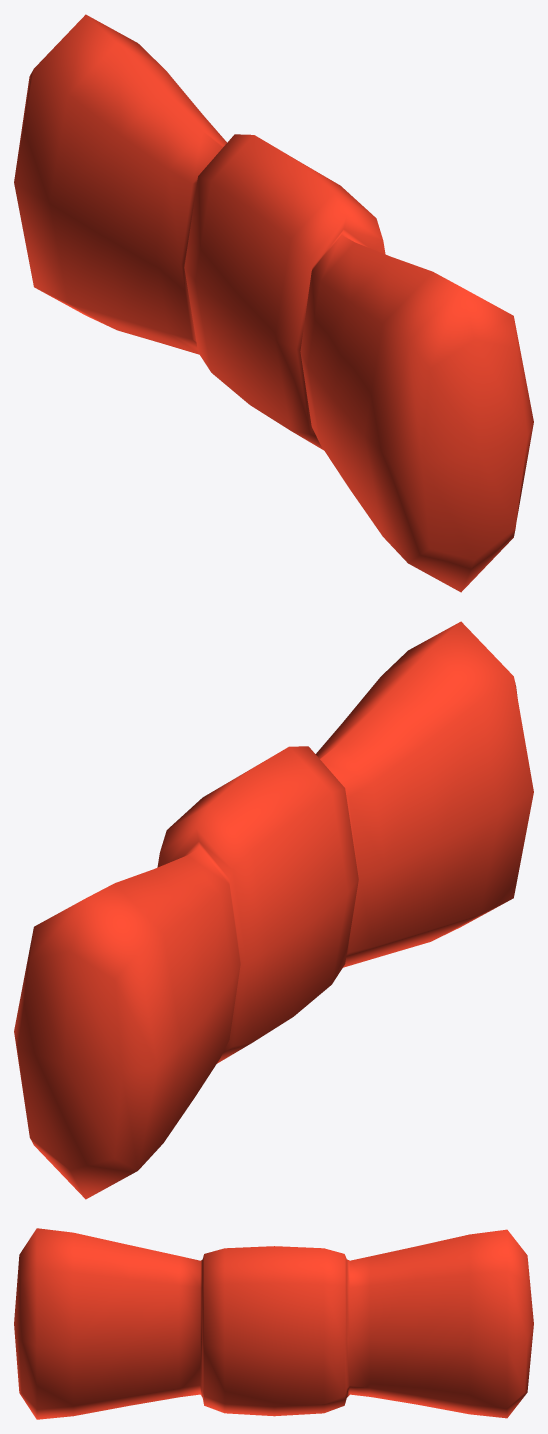
File: reimu_smallbow.glb
3 views of the same model, one above another, from view 1: azimuth 30°, elevation 25°; view 2: azimuth 150°, elevation 25°; view 3: azimuth 270°, elevation 25° (orthographic). The views are drawn at different scales.
Visible parts, largest first — view 1: reimu_llbow; view 2: reimu_llbow; view 3: reimu_llbow.
Boxes of the visible parts, <box> form: reimu_llbow: <box>14,14,533,592</box>; reimu_llbow: <box>14,621,533,1199</box>; reimu_llbow: <box>14,1228,533,1419</box>.
Bounding box in the file's own units: 0.0213 × 0.0392 × 0.0963.
